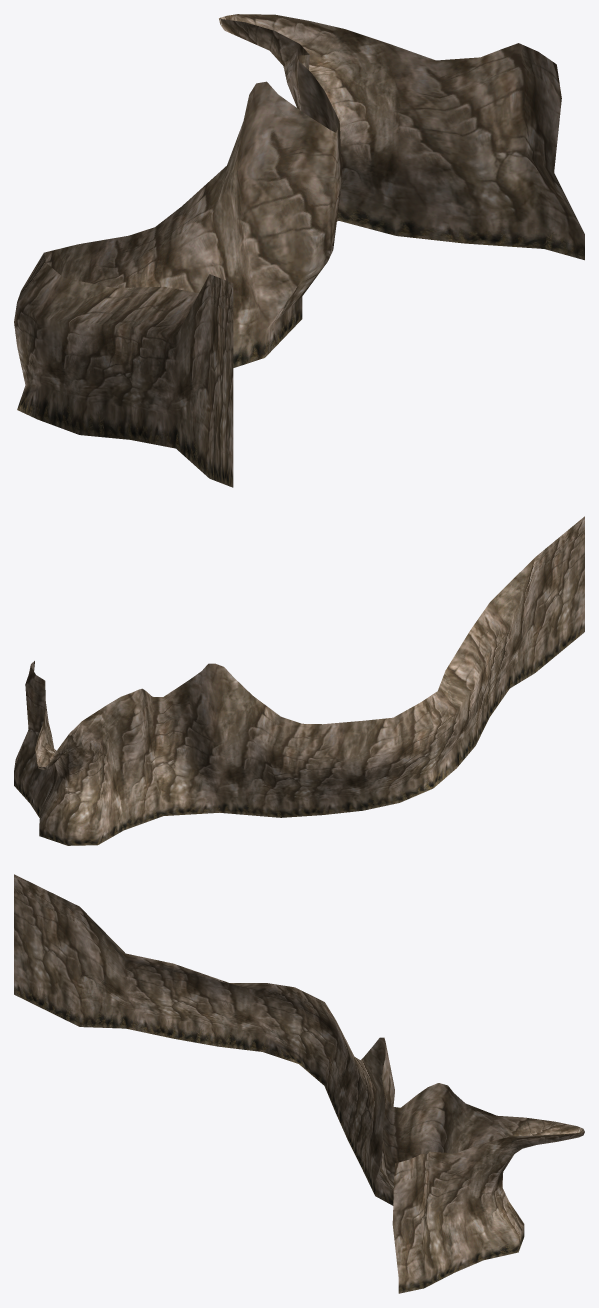
File: OVERHILL_A_01_LINE18.fbx
The picture shows the model from 3 angles, top to bottom: view 1: azimuth 30°, elevation 25°; view 2: azimuth 150°, elevation 25°; view 3: azimuth 270°, elevation 25°; orthographic projection. The views are drawn at different scales.
Parts seen in each view (by area): view 1: OVERHILL_A_01_LINE18; view 2: OVERHILL_A_01_LINE18; view 3: OVERHILL_A_01_LINE18.
Part boxes in pixels (x1=…): OVERHILL_A_01_LINE18: x1=14, y1=14, x2=584, y2=487; OVERHILL_A_01_LINE18: x1=14, y1=516, x2=584, y2=845; OVERHILL_A_01_LINE18: x1=14, y1=874, x2=584, y2=1293.
Size of the model in its own units: 179909 by 96760 by 222776.
Materials: 2 (2 with a texture image).
